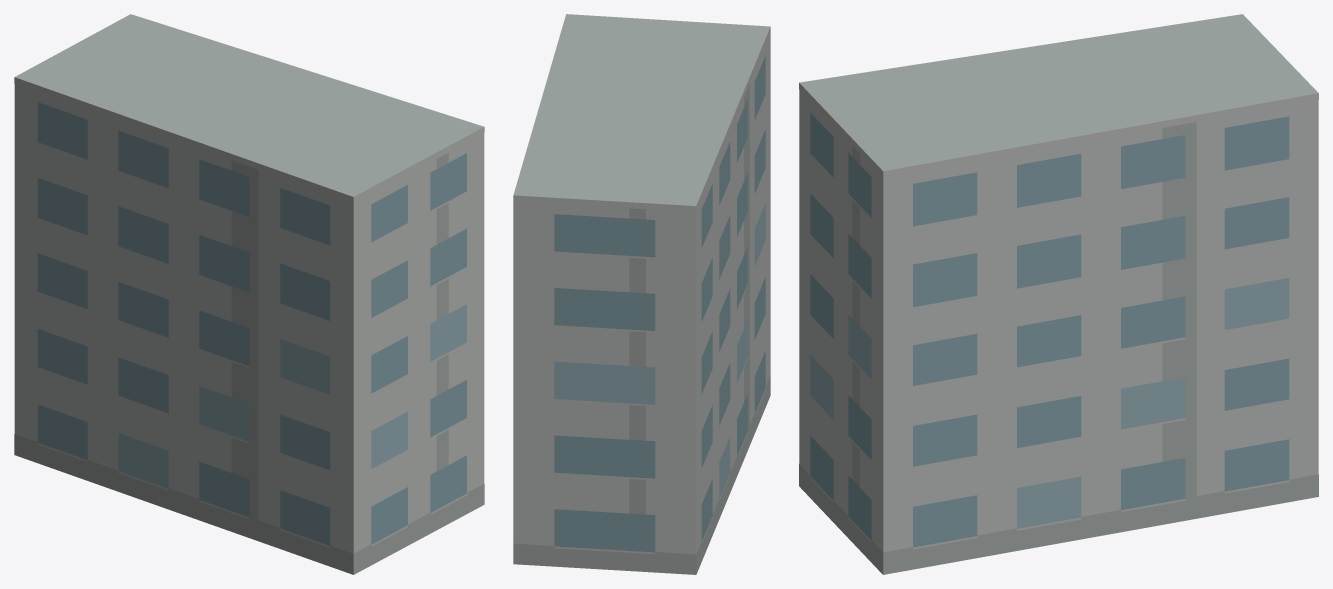
The model's file is survey-upis-32881903.glb.
3 views of the same model, side by side, from view 1: azimuth 30°, elevation 25°; view 2: azimuth 150°, elevation 25°; view 3: azimuth 270°, elevation 25° (orthographic). The views are drawn at different scales.
Visible parts, largest first — view 1: survey-upis-32881903.tmp; view 2: survey-upis-32881903.tmp; view 3: survey-upis-32881903.tmp.
Boxes of the visible parts, x1,y1,x2,y2 form: survey-upis-32881903.tmp: (14, 14, 484, 574); survey-upis-32881903.tmp: (513, 14, 770, 574); survey-upis-32881903.tmp: (799, 14, 1318, 574).
Size of the model in its own units: 12.04 by 14.4 by 16.81.
